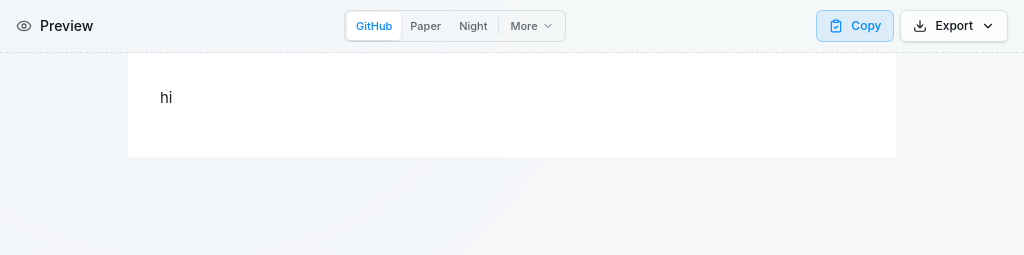
Test case: Markdown 预览主题 › 从更多里选中的主题会应用到预览并占用触发器文案
Press the mouse on the button "More" at point(532, 26), box [501,12,563,40]
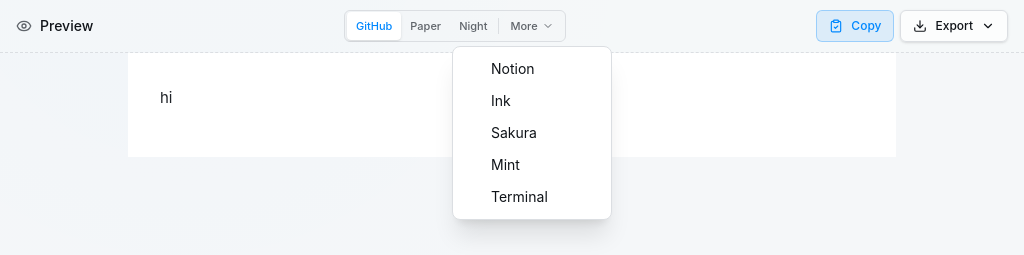
Click the menu item "Ink" at point(501, 100), box [491,92,511,109]
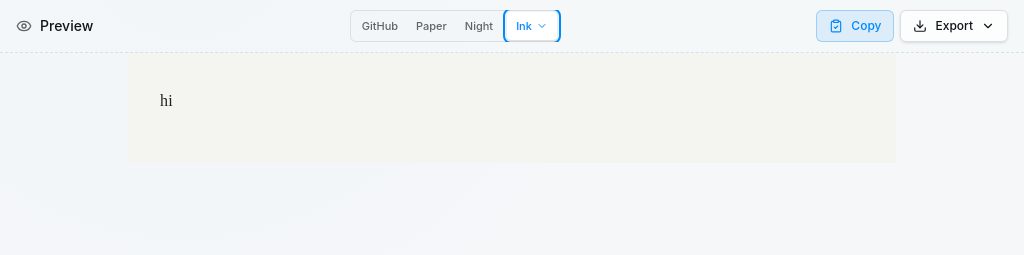
Now the button "Ink" is shown, box [507,12,557,40]
